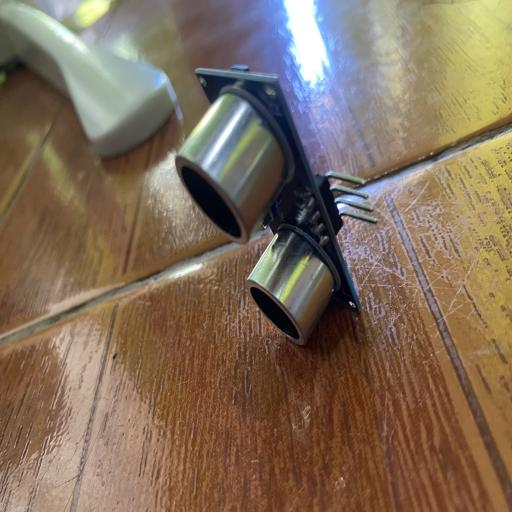Ultrasonic Sensor: (172, 64, 380, 349)
